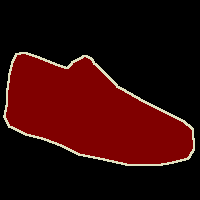shoe: (4, 52, 194, 165)
